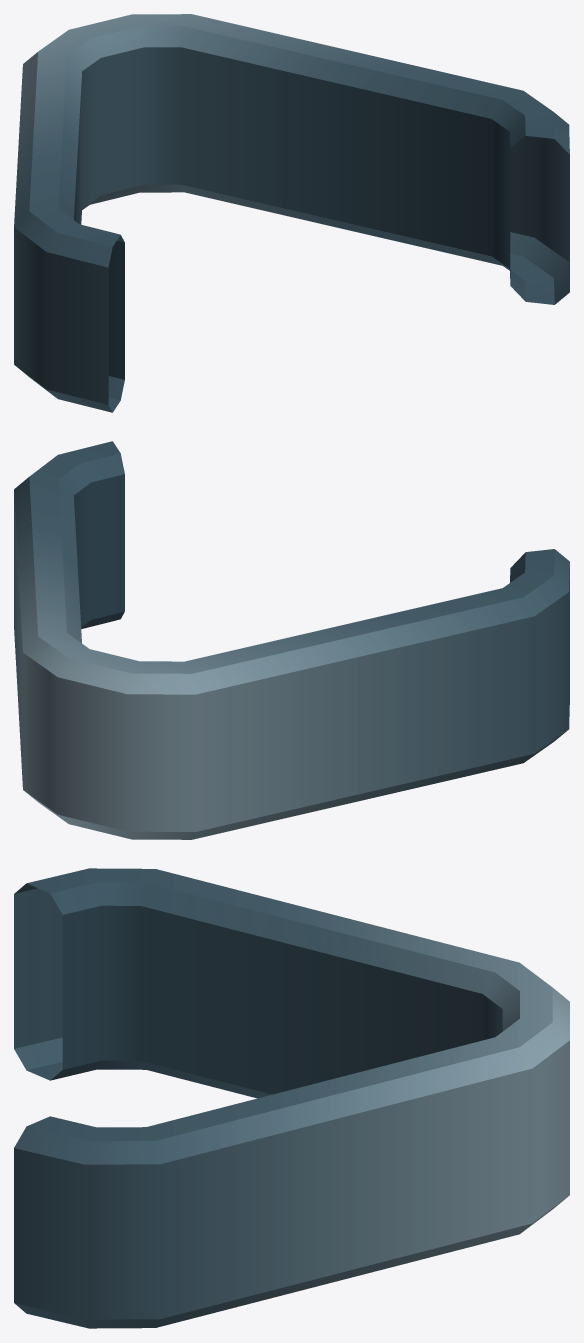
Rendered from Gate 02.FBX.
3 views of the same model, one above another, from view 1: azimuth 30°, elevation 25°; view 2: azimuth 150°, elevation 25°; view 3: azimuth 270°, elevation 25° (orthographic). The views are drawn at different scales.
Parts seen in each view (by area): view 1: Gate 02; view 2: Gate 02; view 3: Gate 02.
Part boxes in pixels (box(x1,y1,x2,y2)): Gate 02: box(14, 14, 569, 412); Gate 02: box(14, 441, 569, 839); Gate 02: box(14, 868, 569, 1328).
Bounding box in the file's own units: 556 × 169 × 454.
Materials: 1 (1 with a texture image).
